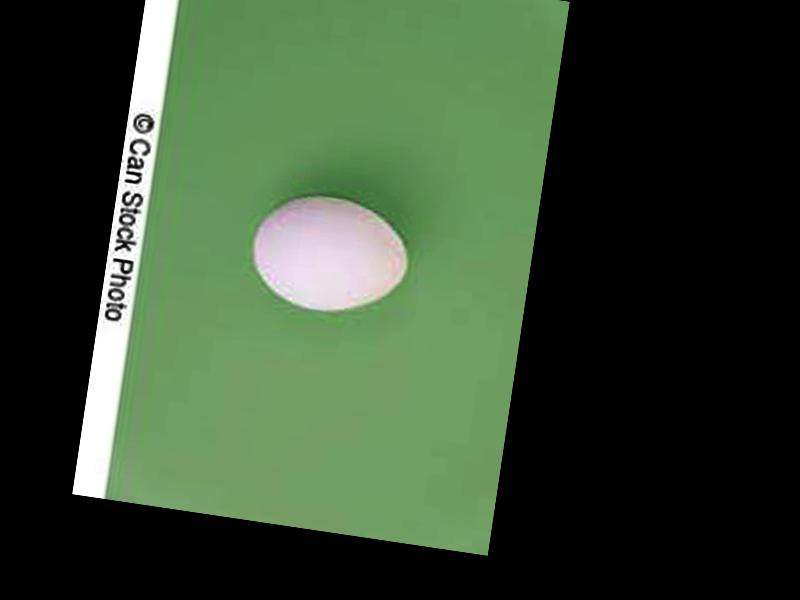Eggs: (246, 187, 414, 320)
